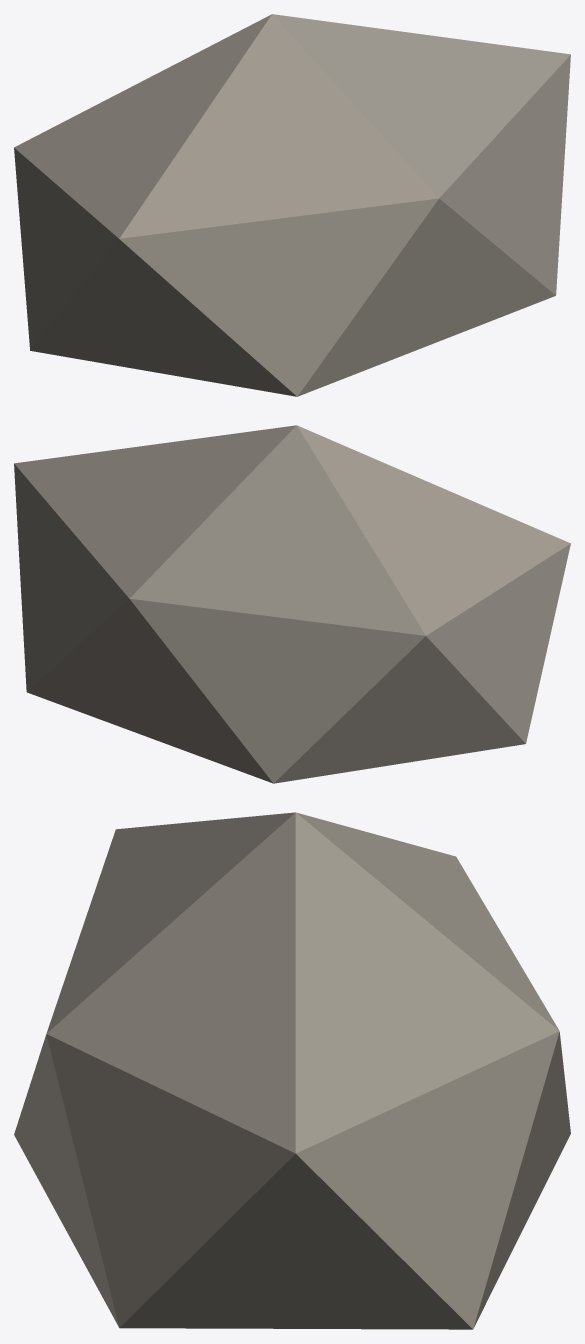
Rendered from HS_LP_Rock_Small_02.fbx.
The picture shows the model from 3 angles, top to bottom: view 1: azimuth 30°, elevation 25°; view 2: azimuth 150°, elevation 25°; view 3: azimuth 270°, elevation 25°; orthographic projection. The views are drawn at different scales.
Parts seen in each view (by area): view 1: HS_LP_Rock_Small_02; view 2: HS_LP_Rock_Small_02; view 3: HS_LP_Rock_Small_02.
Part boxes in pixels (<box>): HS_LP_Rock_Small_02: <box>14,14,570,396</box>; HS_LP_Rock_Small_02: <box>14,425,570,783</box>; HS_LP_Rock_Small_02: <box>14,812,570,1329</box>.
Size of the model in its own units: 53.21 by 34.07 by 36.02.
